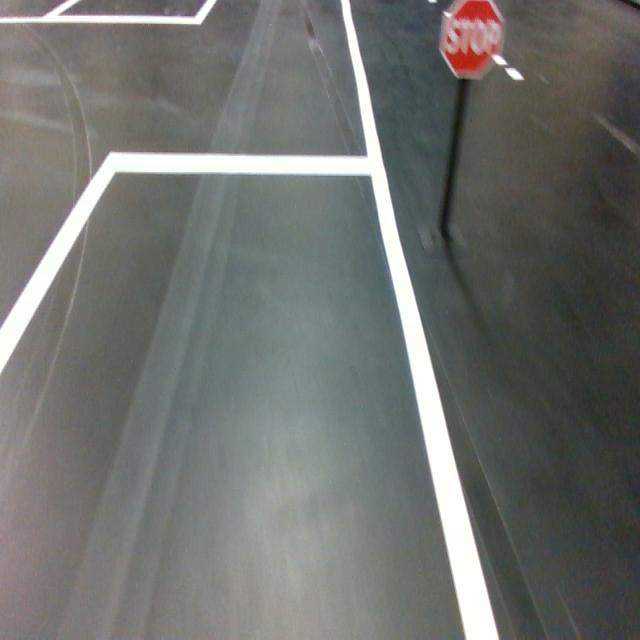stop-sign: (436, 0, 508, 81)
